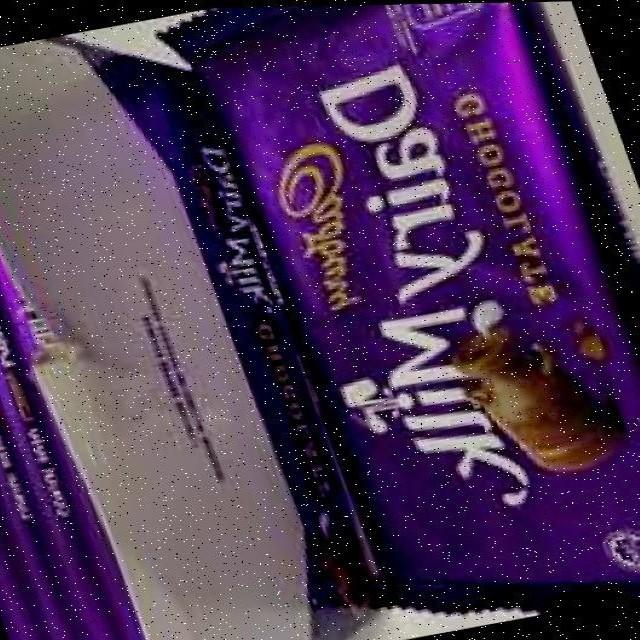cadbury_chocolate: (198, 44, 640, 541)
